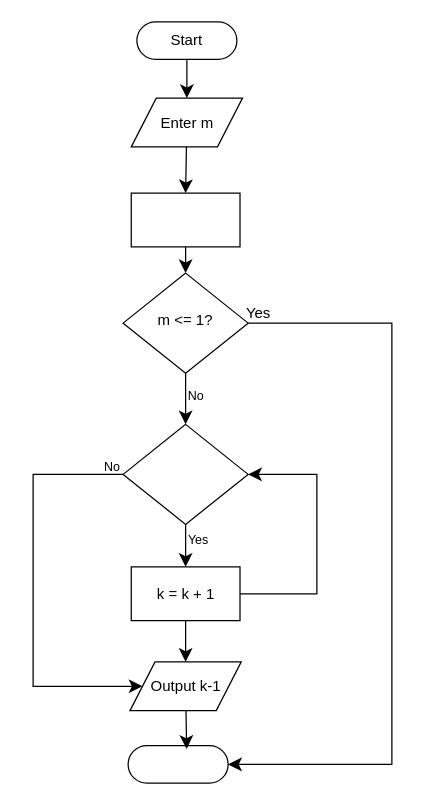
The diagram is 426 pixels wide and 805 high, and some of its shapes have lost their labels. Each missing label, with the centre of its shape:
4^k < m?: point (185, 473)
End: point (177, 763)
k = 0: point (185, 219)
